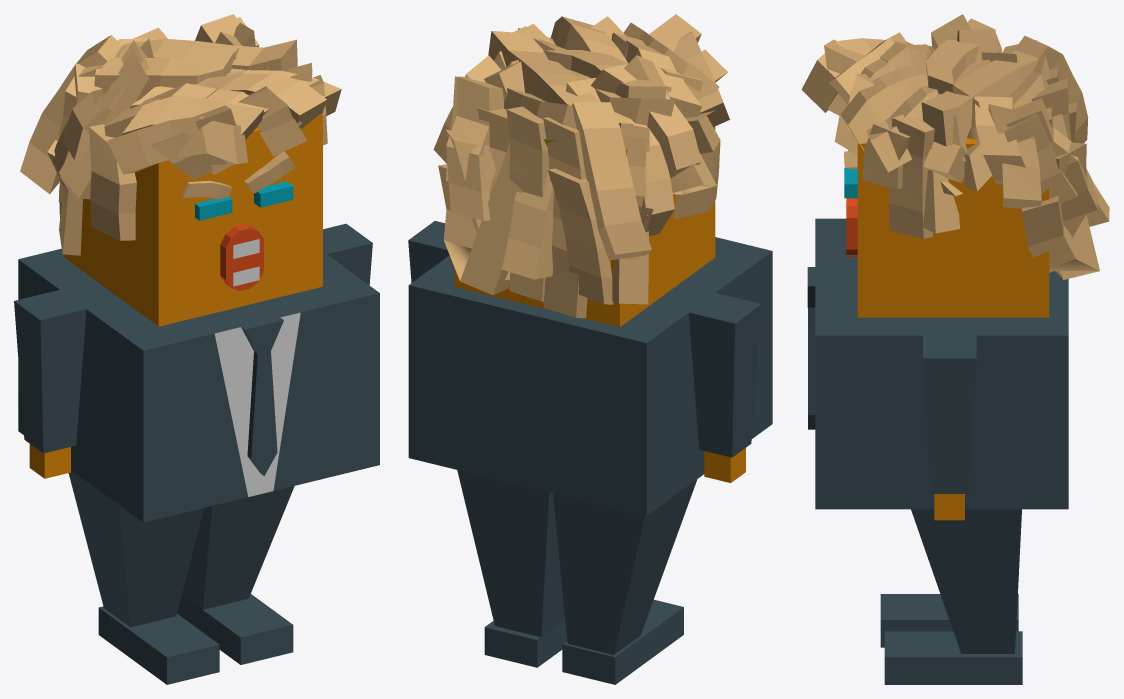
The picture shows the model from 3 angles, left to right: view 1: azimuth 30°, elevation 25°; view 2: azimuth 150°, elevation 25°; view 3: azimuth 270°, elevation 25°; orthographic projection.
Visible parts, largest first — view 1: node_MeshObject-1568441728-PolyPaper17; view 2: node_MeshObject-1568441728-PolyPaper17; view 3: node_MeshObject-1568441728-PolyPaper17.
Boxes of the visible parts, bbox=[...] form: node_MeshObject-1568441728-PolyPaper17: bbox=[14, 14, 379, 684]; node_MeshObject-1568441728-PolyPaper17: bbox=[408, 14, 772, 684]; node_MeshObject-1568441728-PolyPaper17: bbox=[801, 14, 1109, 684].
Bounding box in the file's own units: 0.5 × 0.8788 × 0.4018.
